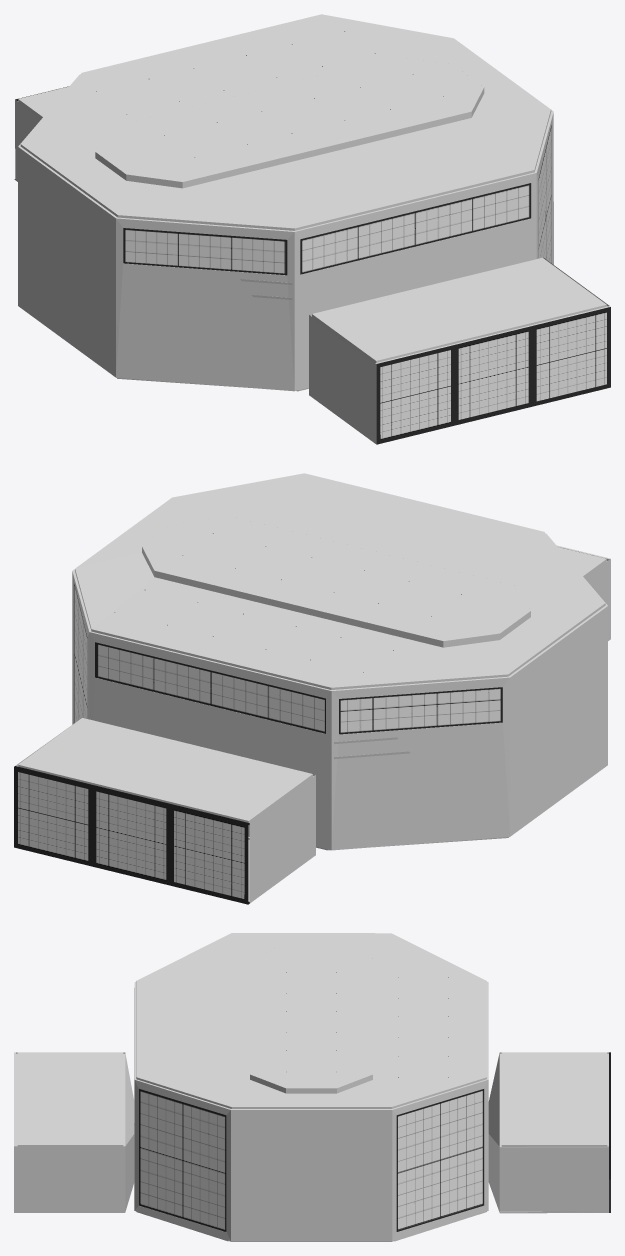
File: RolePlayHall.fbx
The picture shows the model from 3 angles, top to bottom: view 1: azimuth 30°, elevation 25°; view 2: azimuth 150°, elevation 25°; view 3: azimuth 270°, elevation 25°; orthographic projection. The views are drawn at different scales.
Visible parts, largest first — view 1: Walls, Ceiling, Right.Room.Windows, Right.Room.Ceiling, Windows, Right.Room.Walls, Right.Room.WindowFrames, WindowFrames, Left.Room.Walls, Left.Room.Ceiling; view 2: Walls, Ceiling, Left.Room.Windows, Left.Room.Ceiling, Windows, Left.Room.Walls, Left.Room.WindowFrames, WindowFrames, Right.Room.Walls, Right.Room.Ceiling; view 3: Walls, Ceiling, Windows, Right.Room.Ceiling, Left.Room.Ceiling, Right.Room.Walls, Left.Room.Walls, WindowFrames.
Part boxes in pixels (left/top/right/bottom): Walls: left=18, top=57, right=553, bottom=391; Ceiling: left=20, top=14, right=550, bottom=228; Right.Room.Windows: left=380, top=312, right=606, bottom=439; Right.Room.Ceiling: left=312, top=258, right=606, bottom=361; Windows: left=125, top=126, right=551, bottom=273; Right.Room.Walls: left=309, top=257, right=610, bottom=444; Right.Room.WindowFrames: left=376, top=307, right=610, bottom=444; WindowFrames: left=123, top=125, right=551, bottom=275; Left.Room.Walls: left=15, top=99, right=42, bottom=181; Left.Room.Ceiling: left=18, top=86, right=68, bottom=117; Walls: left=72, top=516, right=607, bottom=850; Ceiling: left=75, top=473, right=605, bottom=687; Left.Room.Windows: left=18, top=772, right=244, bottom=899; Left.Room.Ceiling: left=18, top=718, right=312, bottom=821; Windows: left=74, top=586, right=500, bottom=732; Left.Room.Walls: left=15, top=719, right=315, bottom=903; Left.Room.WindowFrames: left=14, top=766, right=249, bottom=904; WindowFrames: left=74, top=584, right=502, bottom=734; Right.Room.Walls: left=557, top=545, right=610, bottom=640; Right.Room.Ceiling: left=558, top=547, right=606, bottom=576; Walls: left=127, top=944, right=501, bottom=1241; Ceiling: left=136, top=933, right=486, bottom=1107; Windows: left=140, top=1090, right=482, bottom=1230; Right.Room.Ceiling: left=17, top=1052, right=123, bottom=1145; Left.Room.Ceiling: left=501, top=1052, right=607, bottom=1145; Right.Room.Walls: left=14, top=1052, right=134, bottom=1212; Left.Room.Walls: left=488, top=1052, right=608, bottom=1213; WindowFrames: left=139, top=1089, right=483, bottom=1231.
Size of the model in its own units: 2246 by 837 by 3221.
